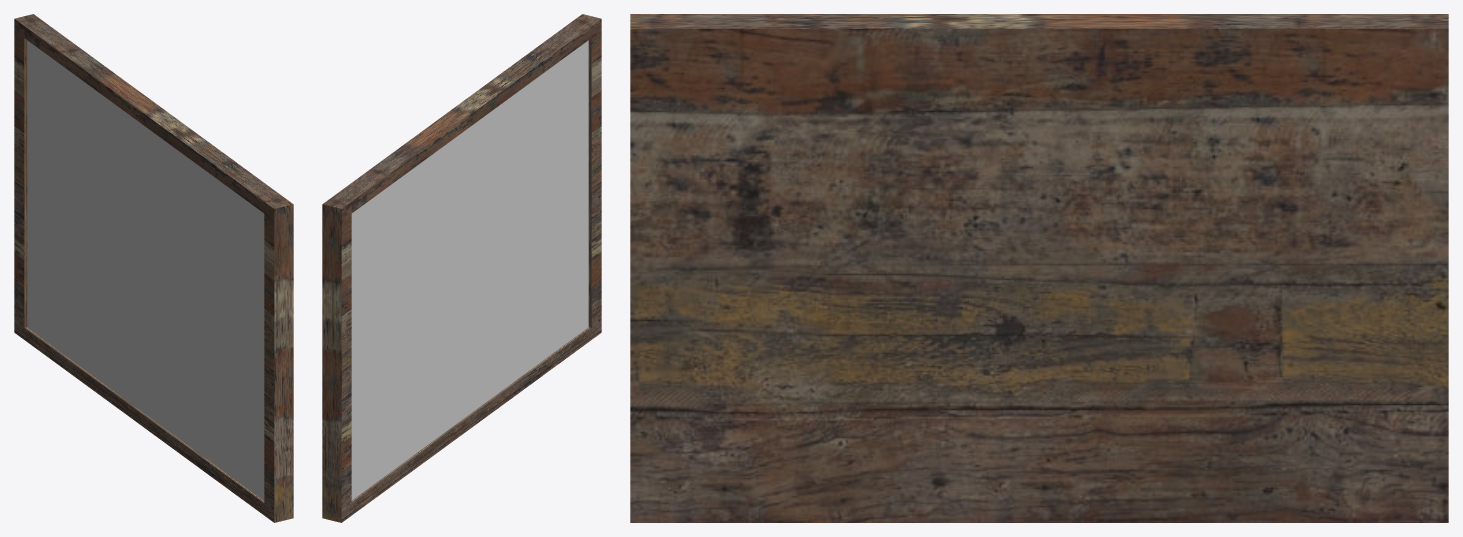
Rendered from bunker poster stand 1.fbx.
3 renders of one model, left to right at view 1: azimuth 30°, elevation 25°; view 2: azimuth 150°, elevation 25°; view 3: azimuth 270°, elevation 25°, orthographic. The views are drawn at different scales.
Visible parts, largest first — view 1: Cube; view 2: Cube; view 3: Cube.
Part boxes in pixels (x1=…): Cube: x1=14, y1=14, x2=293, y2=522; Cube: x1=322, y1=14, x2=601, y2=522; Cube: x1=630, y1=14, x2=1448, y2=522.
Size of the model in its own units: 6.39 by 100 by 150.
